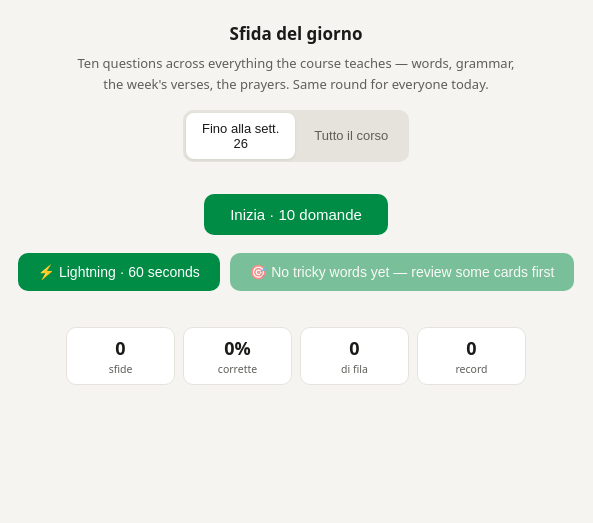
QuizGame › shows the right answer after a wrong pick
What coordinates should you click on to do the following:
click the button "Inizia · 10 domande"
I would click on:
 (296, 214)
Its box is [204, 194, 388, 235].
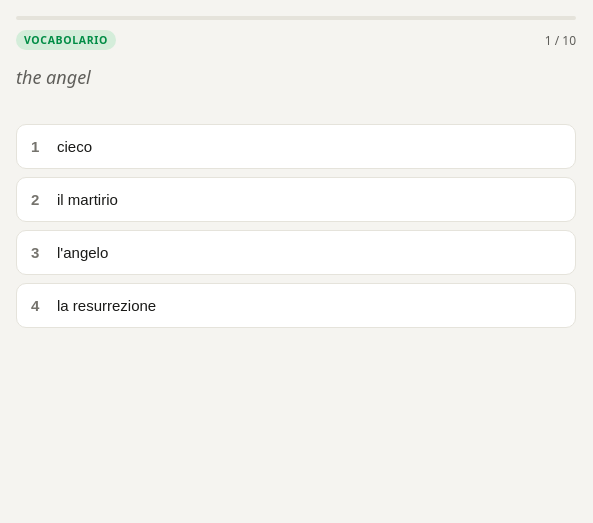
What coordinates should you click on to do the following:
click the button "cieco"
I would click on:
 (75, 146)
Its box is [16, 124, 576, 169].
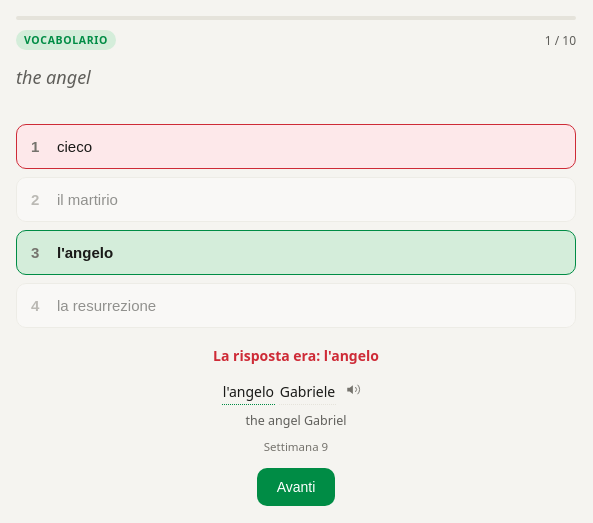
Check: the button "cieco" is shown, box [16, 124, 576, 169]
Check: the text "La risposta era: l'angelo" is shown, box [213, 346, 379, 365]
